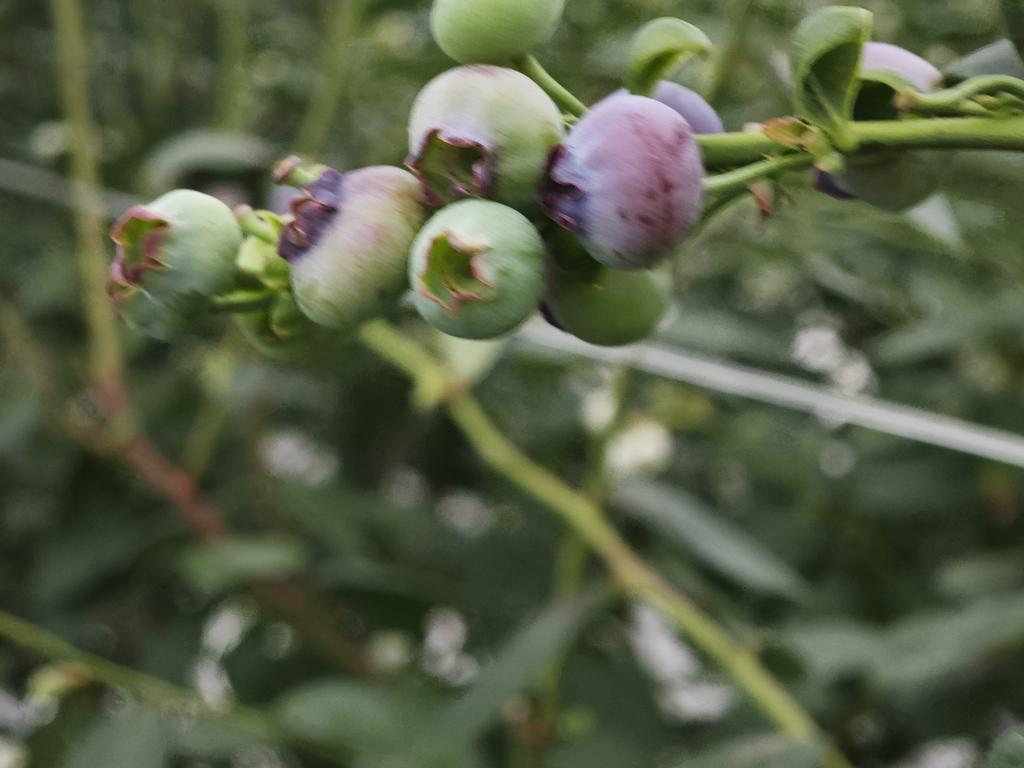Semi-RipeBlueBerry: (554, 91, 703, 271)
UnripeBlueBerry: (283, 164, 422, 333), (403, 63, 560, 208), (408, 194, 546, 341)
